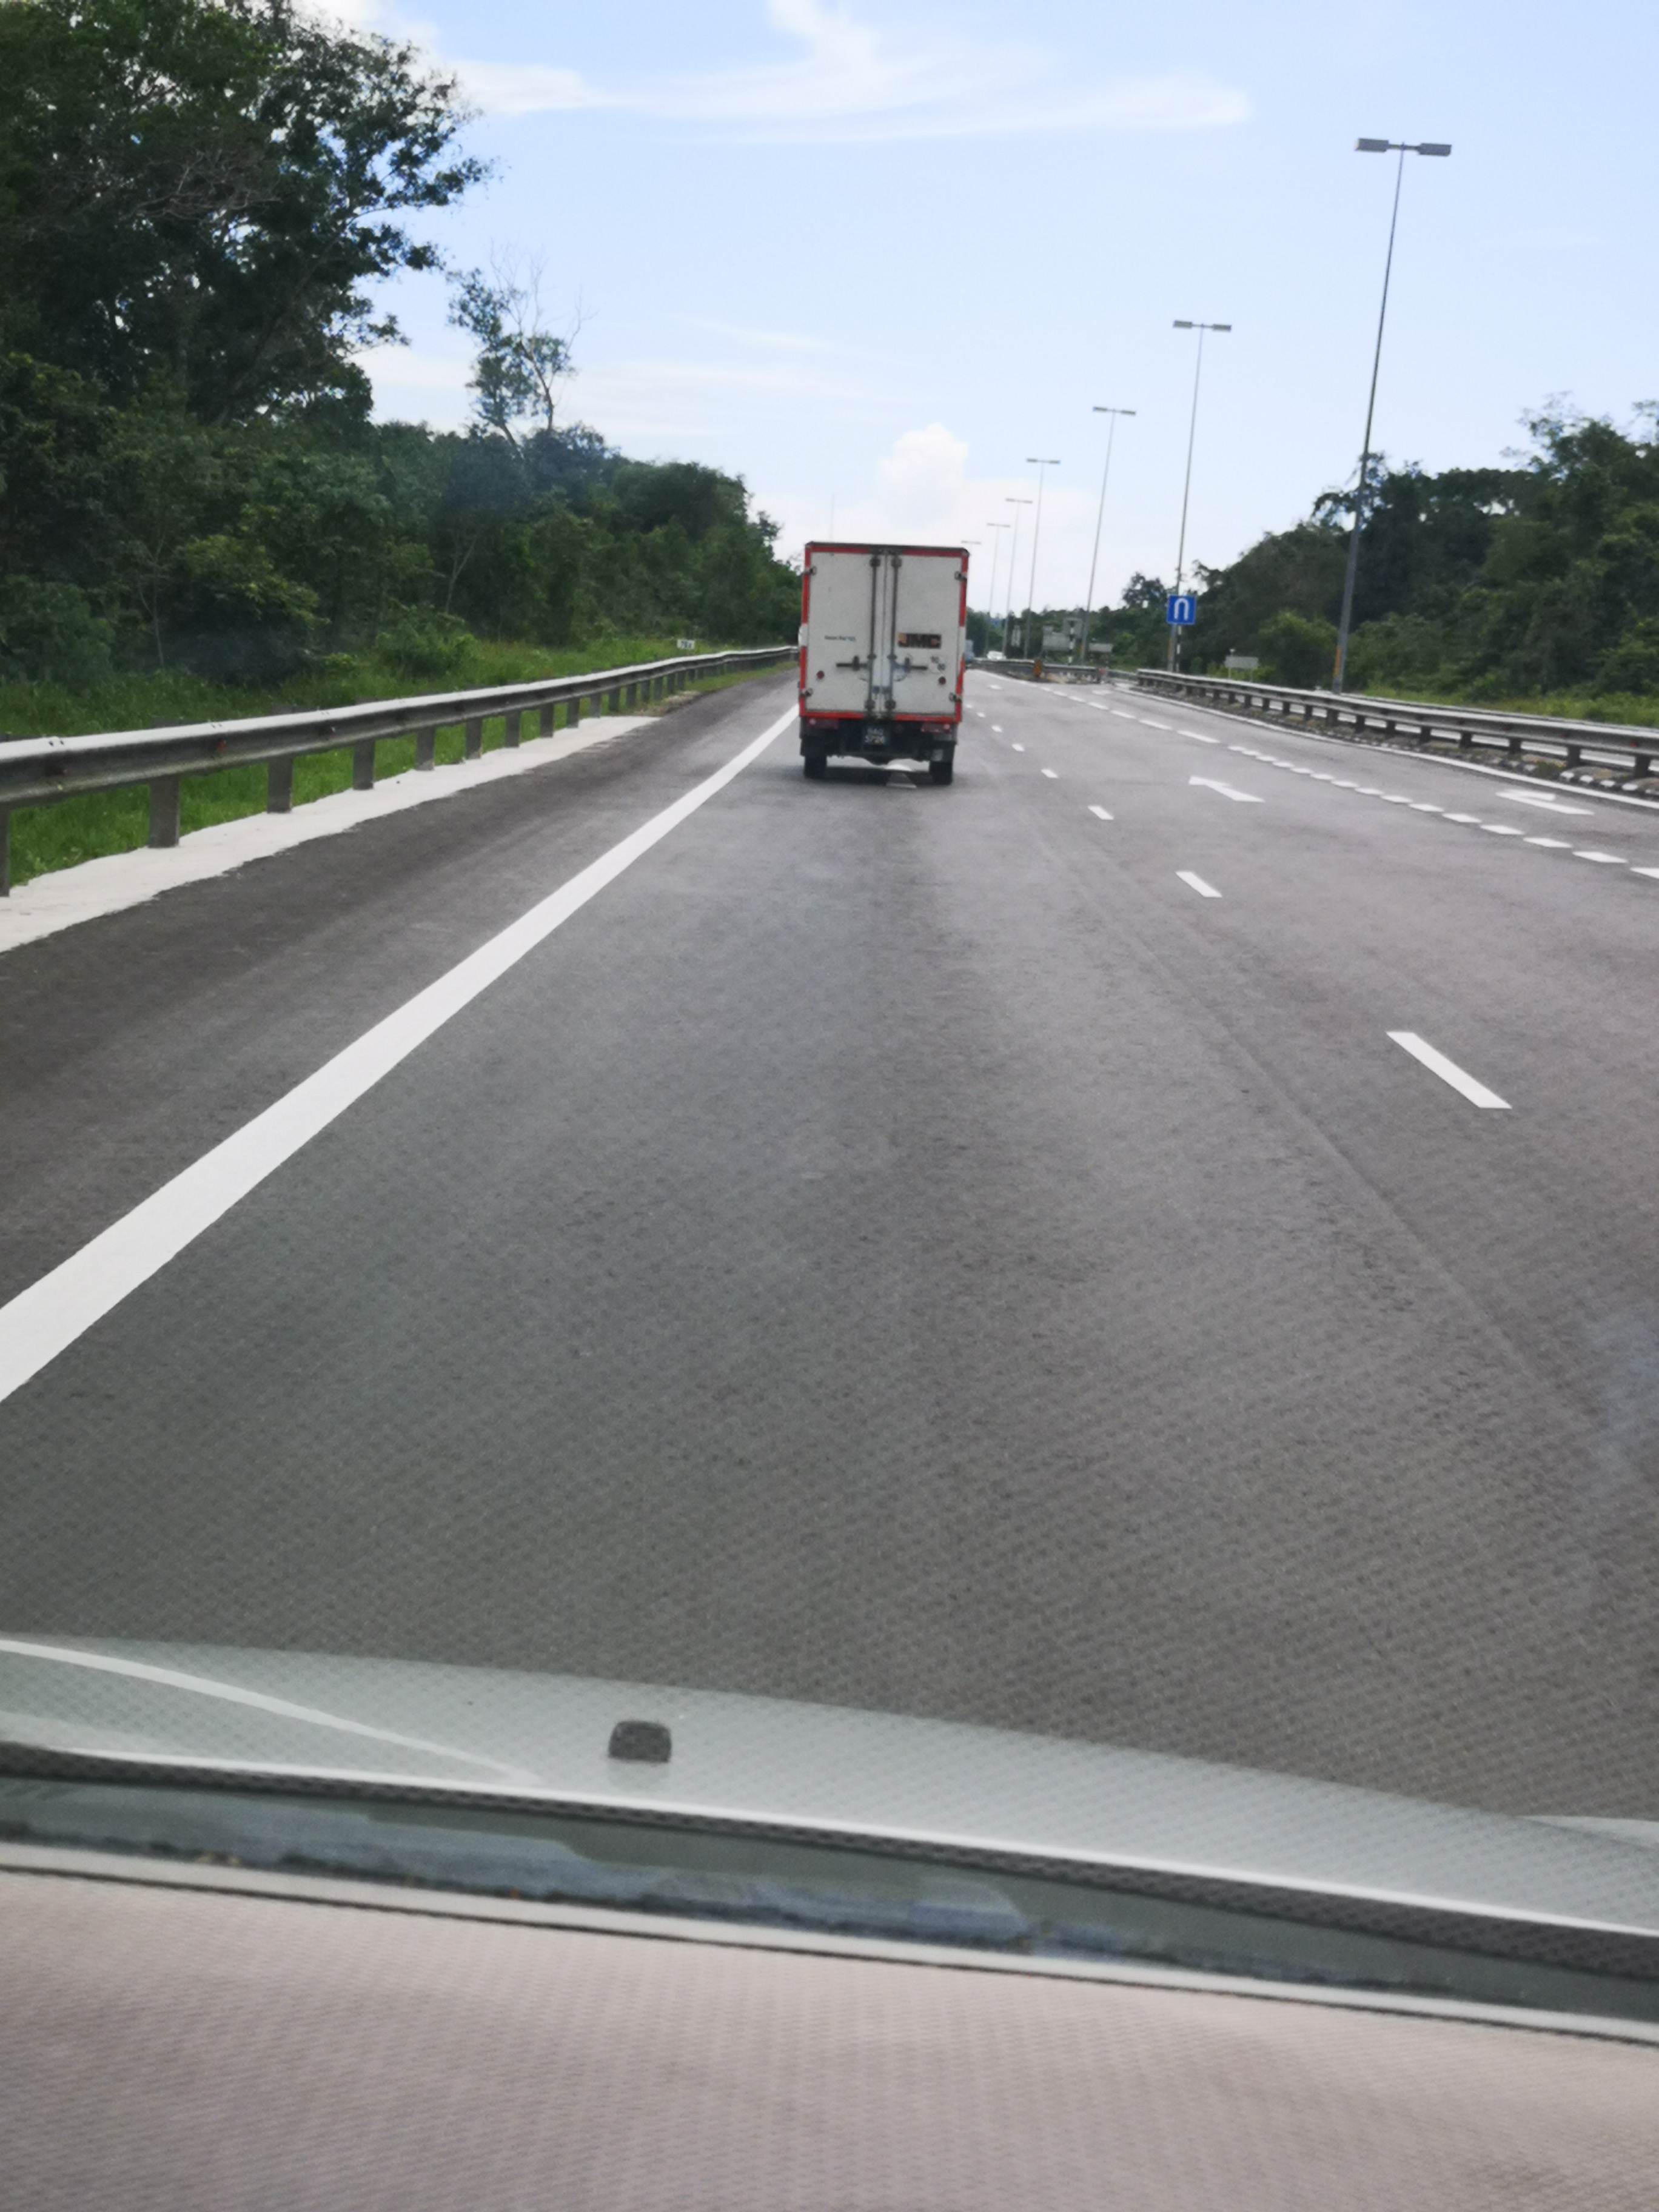U-turn: (1166, 592, 1197, 629)
